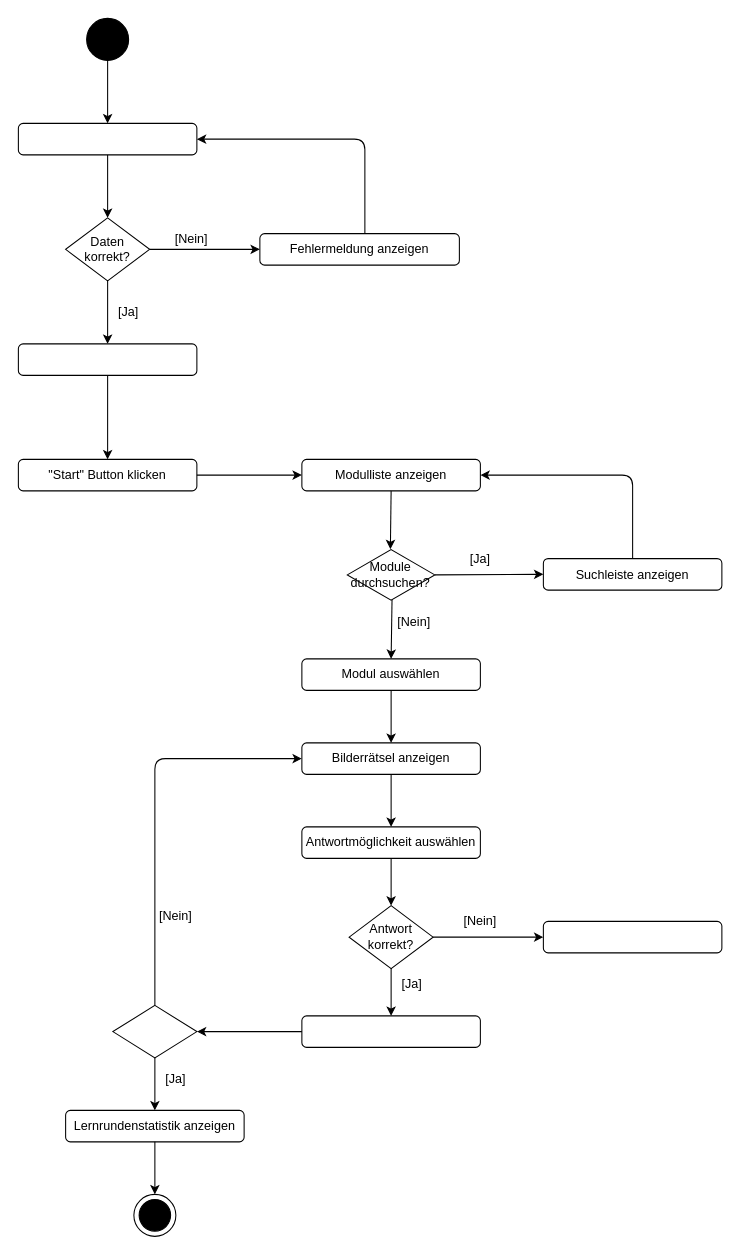
Some shapes in this 740 by 1255 pixel diagram are drawn without their labels. The centre of each missing label's shape, as x and y in pixels:
"Einloggen in App" goes at point 107,138.
"Home View anzeigen" goes at point 107,359.
"Letztes Rätsel in Modul?" goes at point 154,1031.
"Nächstes Rätsel Button drücken" goes at point 390,1031.
"Richtige Antwort anzeigen" goes at point 632,936.
